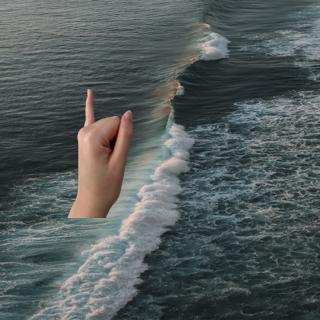Fine: (63, 82, 145, 219)
